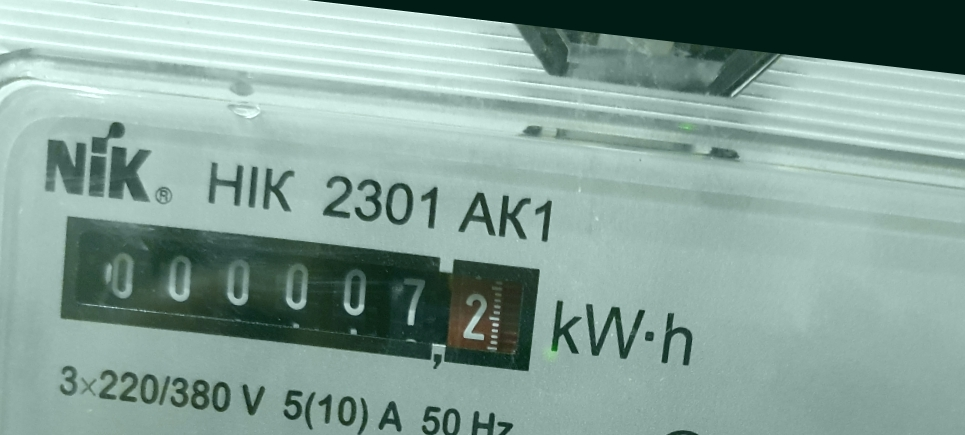0: (159, 249, 200, 304), (335, 264, 373, 320), (278, 257, 314, 313), (103, 247, 140, 301), (220, 253, 256, 308)
2: (457, 289, 493, 343)
7: (393, 272, 429, 329)
screen: (36, 194, 562, 393)
